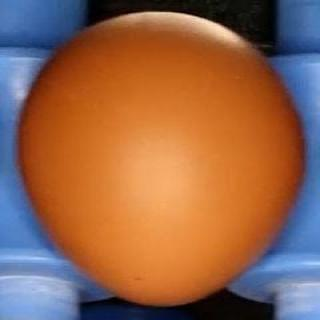Telur: (12, 11, 310, 308)
